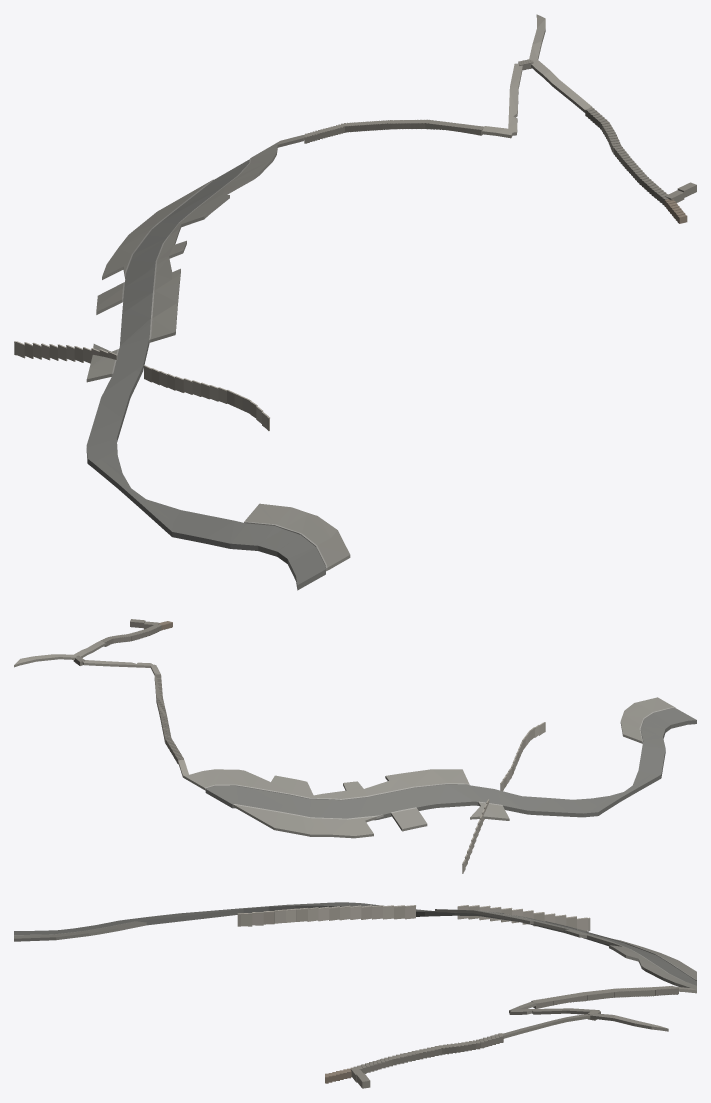
The picture shows the model from 3 angles, top to bottom: view 1: azimuth 30°, elevation 25°; view 2: azimuth 150°, elevation 25°; view 3: azimuth 270°, elevation 25°; orthographic projection. The views are drawn at different scales.
Size of the model in its own units: 147 by 42.92 by 146.
